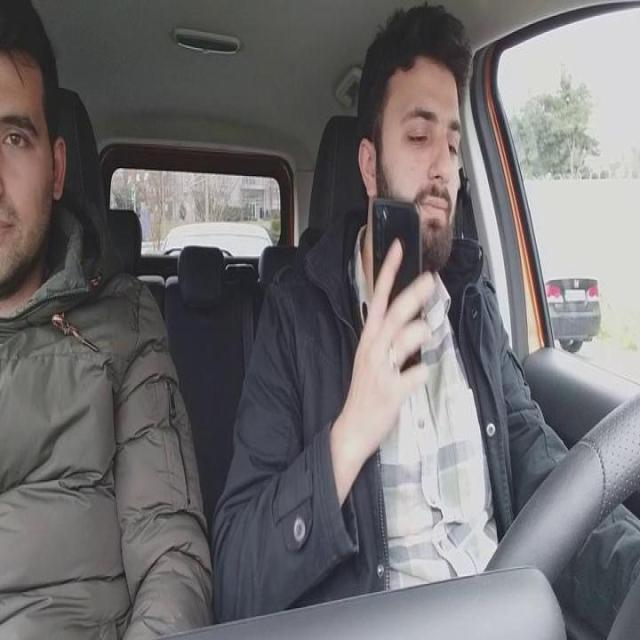phone: (370, 198, 424, 370)
